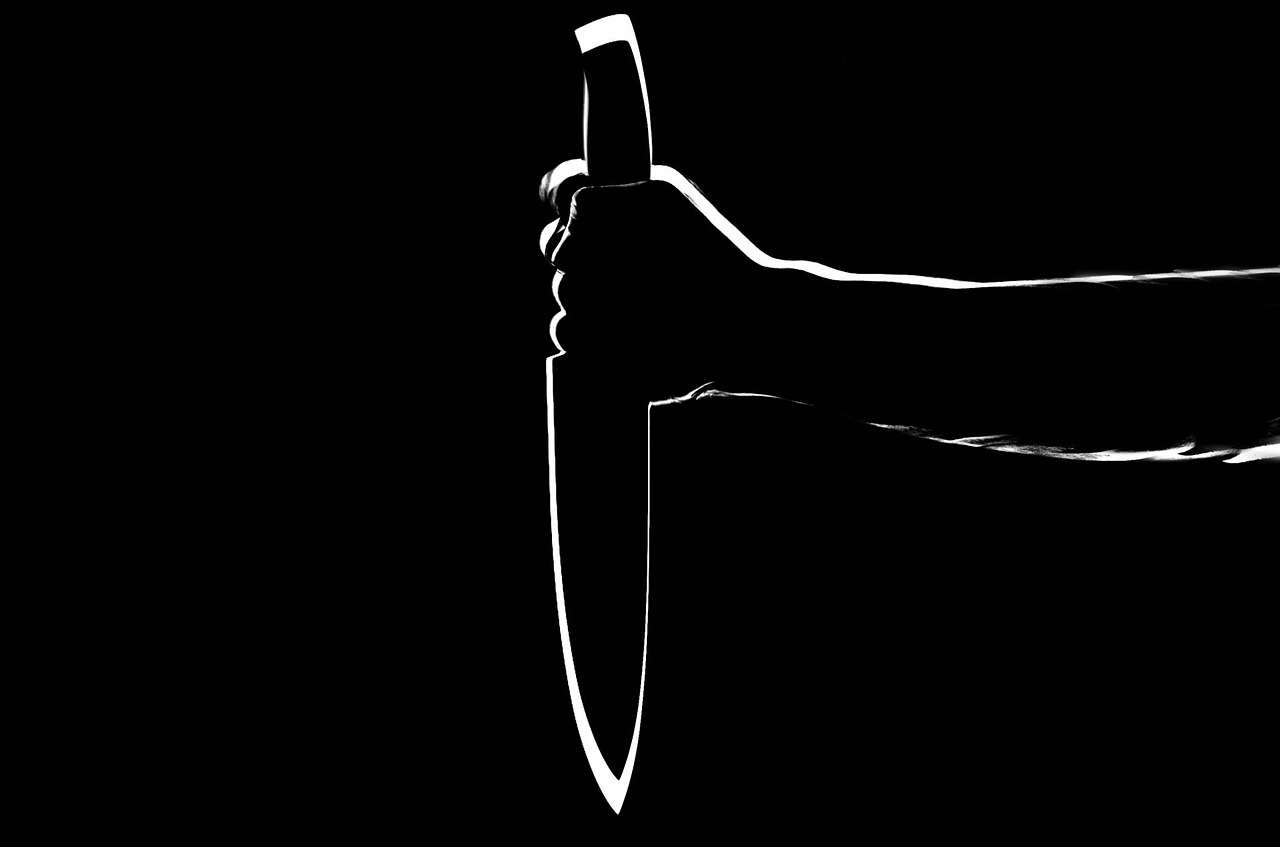knife: (527, 11, 669, 819)
